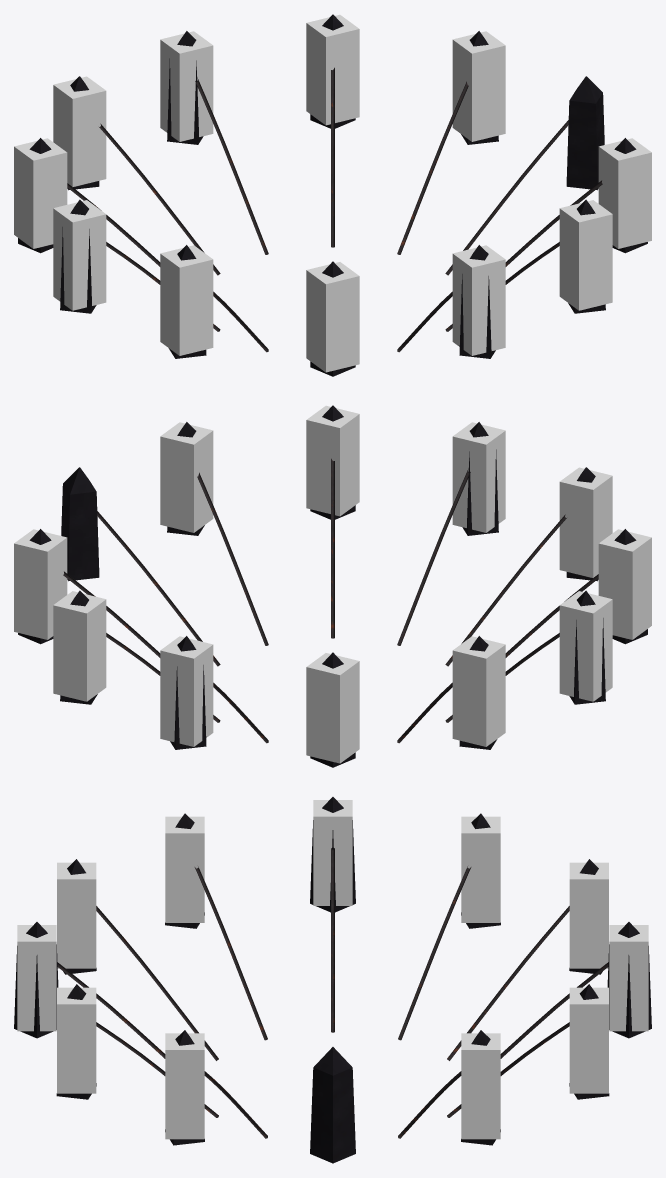
Rendered from sacrifice_ring.glb.
3 renders of one model, top to bottom at view 1: azimuth 30°, elevation 25°; view 2: azimuth 150°, elevation 25°; view 3: azimuth 270°, elevation 25°, orthographic.
Parts seen in each view (by area): view 1: Stones, Chains, Stone-convcolonly.007, Stone-convcolonly.010, Stone-convcolonly.008, Stone-convcolonly.001, Stone-convcolonly.002, Stone-convcolonly.009, Stone-convcolonly.006, Stone-convcolonly.003, Stone-convcolonly.011, Stone-convcolonly.004 (+1 smaller); view 2: Stones, Chains, Stone-convcolonly.005, Stone-convcolonly.002, Stone-convcolonly.004, Stone-convcolonly.011, Stone-convcolonly.010, Stone-convcolonly.003, Stone-convcolonly.006, Stone-convcolonly.009, Stone-convcolonly.001, Stone-convcolonly.008 (+1 smaller); view 3: Stones, Chains, Stone-convcolonly.001, Stone-convcolonly.011, Stone-convcolonly.002, Stone-convcolonly.010, Stone-convcolonly.004, Stone-convcolonly.008, Stone-convcolonly.005, Stone-convcolonly.007, Stone-convcolonly.003, Stone-convcolonly.009 (+1 smaller).
Boxes of the visible parts, bbox=[...] form: Stones: bbox=[18, 14, 647, 376]; Chains: bbox=[67, 67, 602, 352]; Stone-convcolonly.007: bbox=[160, 245, 213, 355]; Stone-convcolonly.010: bbox=[559, 200, 612, 310]; Stone-convcolonly.008: bbox=[306, 262, 359, 372]; Stone-convcolonly.001: bbox=[452, 31, 505, 141]; Stone-convcolonly.002: bbox=[306, 14, 359, 125]; Stone-convcolonly.009: bbox=[452, 245, 505, 355]; Stone-convcolonly.006: bbox=[53, 200, 106, 310]; Stone-convcolonly.003: bbox=[160, 31, 213, 141]; Stone-convcolonly.011: bbox=[598, 138, 651, 248]; Stone-convcolonly.004: bbox=[53, 76, 106, 186]; Stones: bbox=[18, 405, 647, 767]; Chains: bbox=[63, 458, 598, 743]; Stone-convcolonly.005: bbox=[452, 636, 505, 746]; Stone-convcolonly.002: bbox=[53, 591, 106, 701]; Stone-convcolonly.004: bbox=[306, 653, 359, 763]; Stone-convcolonly.011: bbox=[160, 422, 213, 532]; Stone-convcolonly.010: bbox=[306, 405, 359, 516]; Stone-convcolonly.003: bbox=[160, 636, 213, 746]; Stone-convcolonly.006: bbox=[559, 591, 612, 701]; Stone-convcolonly.009: bbox=[452, 422, 505, 532]; Stone-convcolonly.001: bbox=[14, 529, 67, 639]; Stone-convcolonly.008: bbox=[559, 467, 612, 577]; Stones: bbox=[14, 797, 651, 1163]; Chains: bbox=[57, 848, 608, 1138]; Stone-convcolonly.001: bbox=[461, 1033, 500, 1139]; Stone-convcolonly.011: bbox=[165, 1033, 204, 1139]; Stone-convcolonly.002: bbox=[569, 987, 608, 1093]; Stone-convcolonly.010: bbox=[57, 987, 96, 1093]; Stone-convcolonly.004: bbox=[569, 862, 608, 968]; Stone-convcolonly.008: bbox=[57, 862, 96, 968]; Stone-convcolonly.005: bbox=[461, 816, 500, 922]; Stone-convcolonly.007: bbox=[165, 816, 204, 922]; Stone-convcolonly.003: bbox=[609, 925, 648, 1031]; Stone-convcolonly.009: bbox=[17, 925, 56, 1031].
Size of what is drawn, in the model's own units: 19.4 by 5.64 by 19.4.
2 materials, 2 textured.
